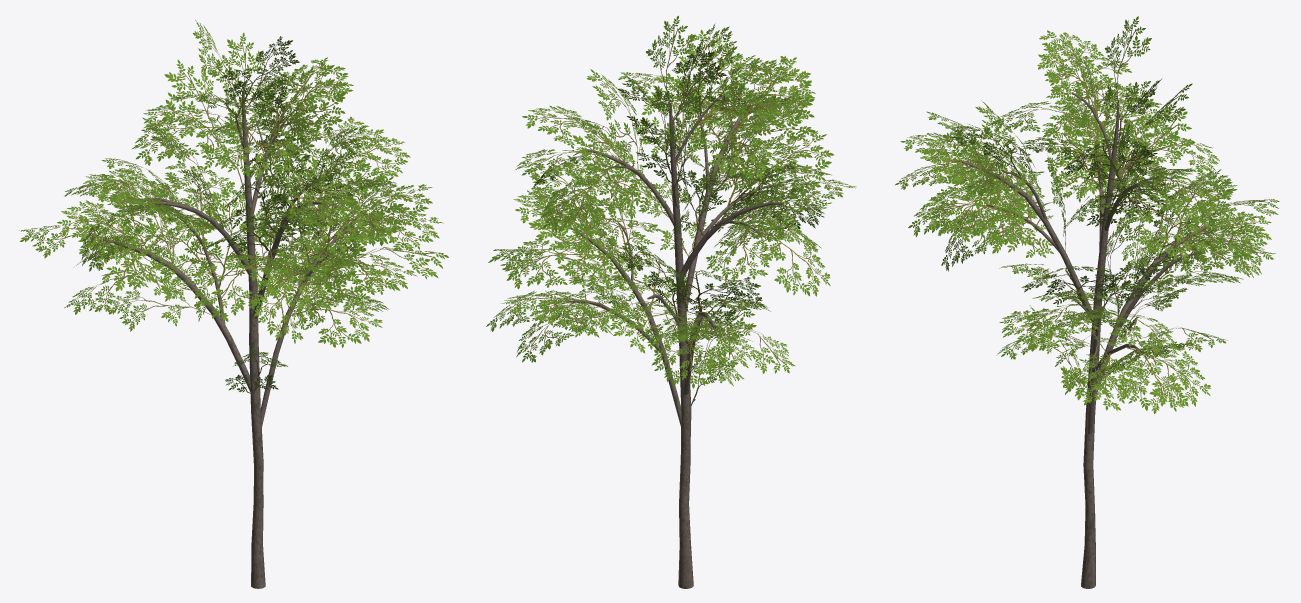
The model's file is Tree_A.glb.
3 renders of one model, left to right at view 1: azimuth 30°, elevation 25°; view 2: azimuth 150°, elevation 25°; view 3: azimuth 270°, elevation 25°, orthographic. The views are drawn at different scales.
Parts seen in each view (by area): view 1: STree_var1_LOD5_Leaves_0, Tree_A; view 2: STree_var1_LOD5_Leaves_0, Tree_A; view 3: STree_var1_LOD5_Leaves_0, Tree_A.
Part boxes in pixels (x1,y1,x2,y2): STree_var1_LOD5_Leaves_0: (19,19,448,410); Tree_A: (102,90,355,588); STree_var1_LOD5_Leaves_0: (486,15,856,405); Tree_A: (567,95,783,588); STree_var1_LOD5_Leaves_0: (895,16,1279,413); Tree_A: (957,92,1211,588).
Size of the model in its own units: 6.77 by 9.99 by 6.44.
2 materials, 2 textured.
